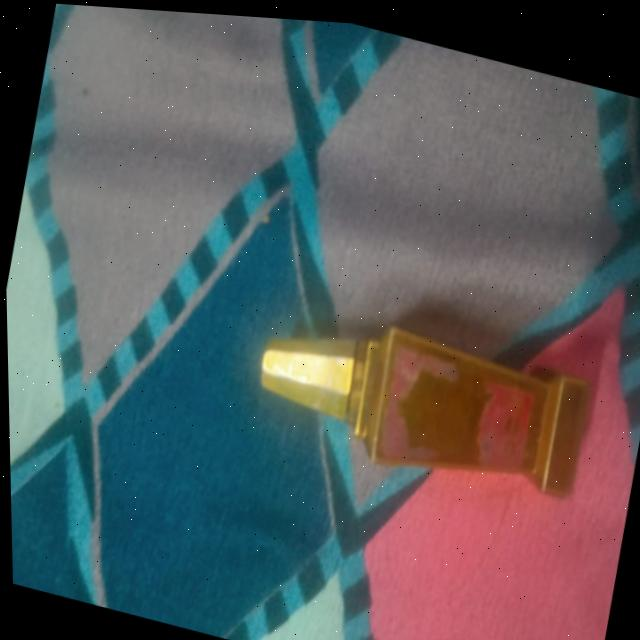kajal: (237, 261, 608, 531)
